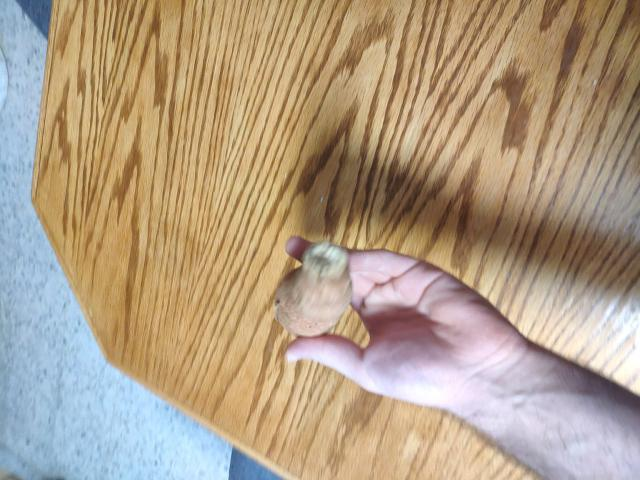sweet_potato: (243, 241, 349, 348)
